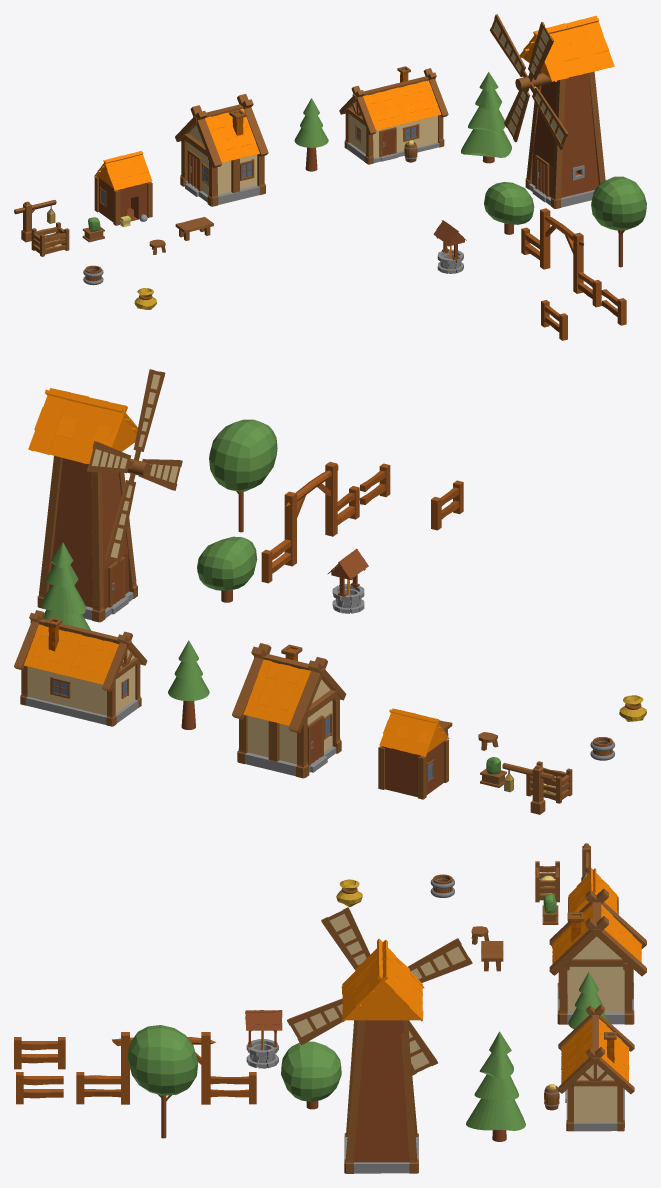
File: Assets_lowpoly_village_ .fbx
3 renders of one model, top to bottom at view 1: azimuth 30°, elevation 25°; view 2: azimuth 150°, elevation 25°; view 3: azimuth 270°, elevation 25°, orthographic. The views are drawn at different scales.
Visible parts, largest first — view 1: Cube.269, Cube.079, Cube.136, Cube.259, Cylinder.007, Cone, Cube.474, Cube.479, Cone.004, Cube.386, Cube.344, Cube.321 (+3 smaller); view 2: Cube.269, Cube.079, Cube.136, Cube.259, Cylinder.007, Cube.474, Cube.479, Cone, Cone.004, Cube.386, Cube.321, Cube.344 (+2 smaller); view 3: Cube.269, Cube.079, Cube.136, Cylinder.007, Cone, Cube.474, Cube.479, Cube.386, Cube.475, Cube.259, Cube.471, Cone.004 (+4 smaller).
Boxes of the visible parts, x1=… form: Cube.269: x1=490, y1=14, x2=614, y2=208; Cube.079: x1=175, y1=94, x2=268, y2=206; Cube.136: x1=339, y1=66, x2=448, y2=164; Cube.259: x1=94, y1=151, x2=152, y2=225; Cylinder.007: x1=591, y1=176, x2=646, y2=267; Cone: x1=461, y1=72, x2=511, y2=163; Cube.474: x1=521, y1=208, x2=601, y2=307; Cube.479: x1=484, y1=182, x2=534, y2=234; Cone.004: x1=294, y1=98, x2=328, y2=171; Cube.386: x1=433, y1=220, x2=466, y2=273; Cube.344: x1=31, y1=222, x2=69, y2=256; Cube.321: x1=14, y1=200, x2=56, y2=242; Cube.269: x1=28, y1=369, x2=182, y2=622; Cube.079: x1=232, y1=643, x2=346, y2=778; Cube.136: x1=14, y1=610, x2=147, y2=726; Cube.259: x1=378, y1=708, x2=449, y2=799; Cylinder.007: x1=209, y1=419, x2=277, y2=532; Cube.474: x1=261, y1=462, x2=359, y2=583; Cube.479: x1=197, y1=536, x2=257, y2=602; Cone: x1=41, y1=542, x2=90, y2=630; Cone.004: x1=168, y1=640, x2=209, y2=729; Cube.386: x1=327, y1=548, x2=368, y2=613; Cube.321: x1=502, y1=763, x2=554, y2=814; Cube.344: x1=526, y1=761, x2=572, y2=803; Cube.269: x1=287, y1=907, x2=472, y2=1173; Cube.079: x1=549, y1=888, x2=646, y2=1024; Cube.136: x1=558, y1=1004, x2=634, y2=1131; Cylinder.007: x1=127, y1=1025, x2=198, y2=1138; Cone: x1=466, y1=1031, x2=525, y2=1141; Cube.474: x1=76, y1=1032, x2=256, y2=1104; Cube.479: x1=281, y1=1041, x2=341, y2=1109; Cube.386: x1=245, y1=1010, x2=282, y2=1068; Cube.475: x1=14, y1=1037, x2=65, y2=1069; Cube.259: x1=568, y1=868, x2=618, y2=921; Cube.471: x1=16, y1=1072, x2=63, y2=1104; Cone.004: x1=568, y1=972, x2=608, y2=1028.
Bounding box in the file's own units: 9683 × 3521 × 8819.
